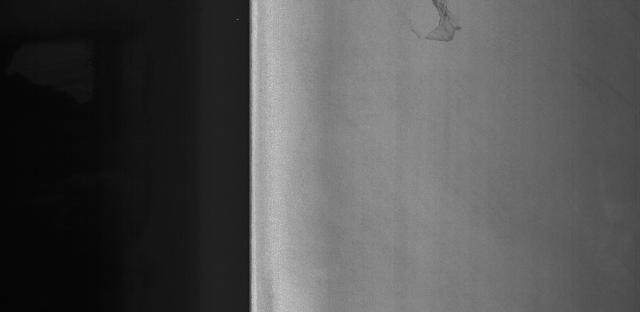water_spot: (395, 0, 475, 47)
